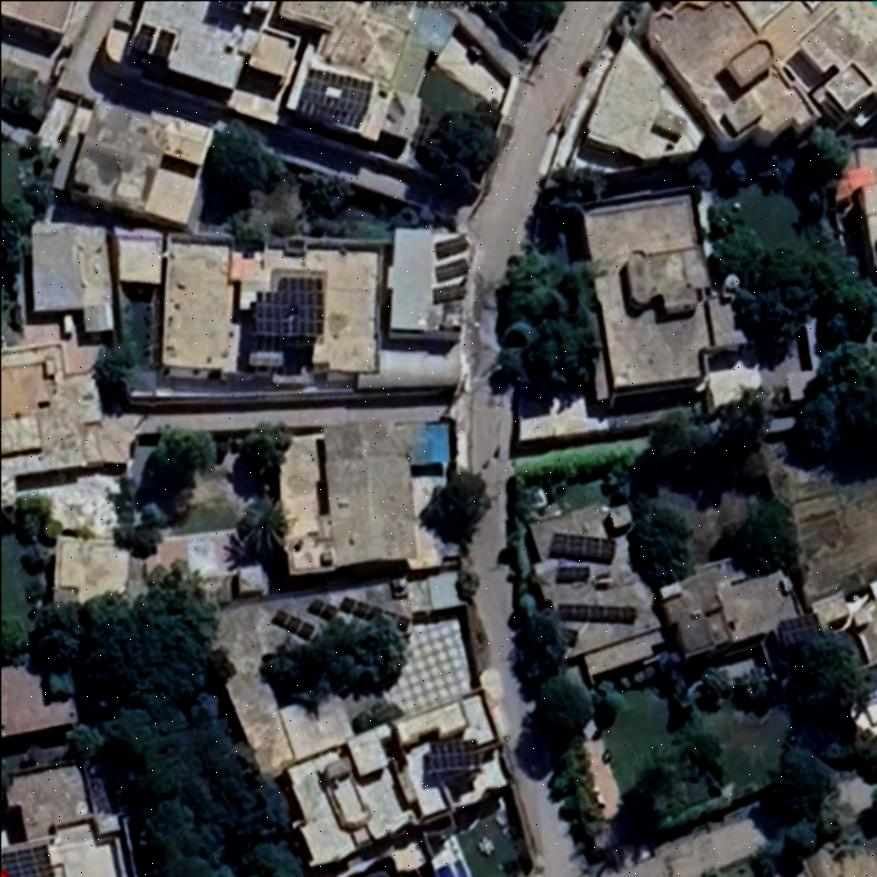Solarpanel: (252, 278, 324, 338), (296, 68, 374, 115), (342, 596, 407, 632), (424, 737, 481, 774), (549, 532, 615, 562), (774, 610, 824, 646), (550, 604, 638, 624), (6, 845, 57, 877), (272, 613, 313, 638), (310, 599, 337, 618)
